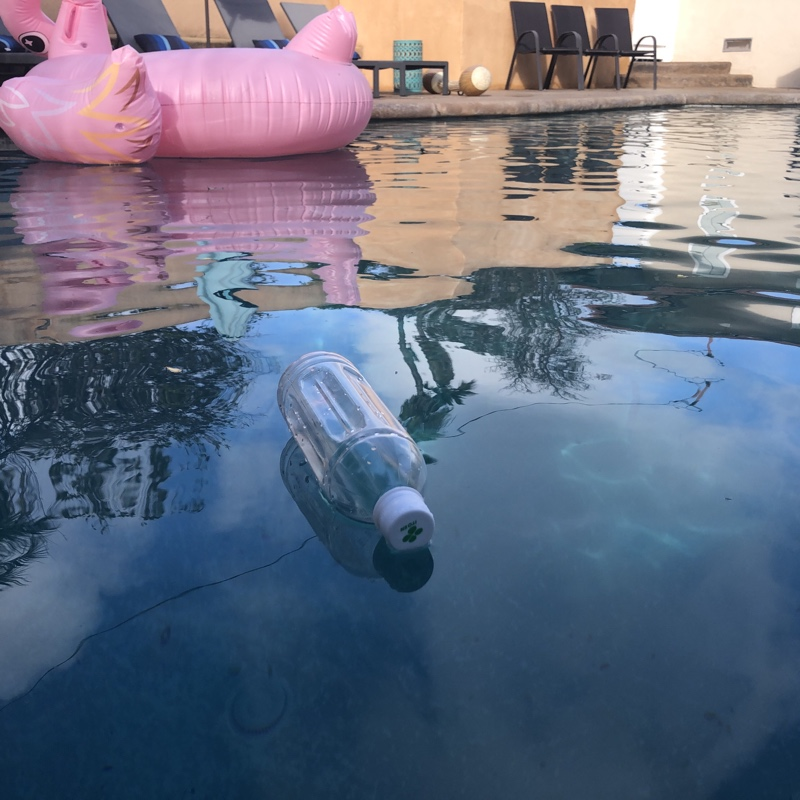Plastic Bottle: (272, 348, 440, 556)
